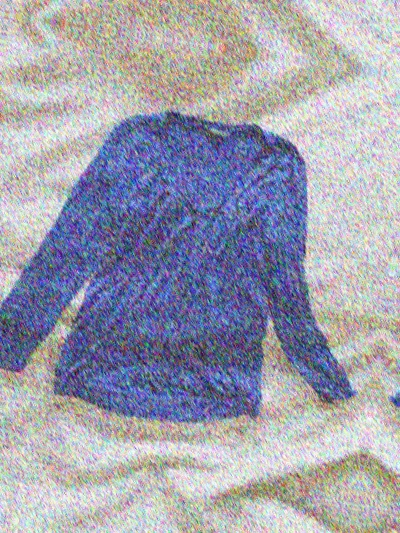Dress: (0, 94, 398, 450), (379, 157, 400, 514), (39, 0, 400, 0)
